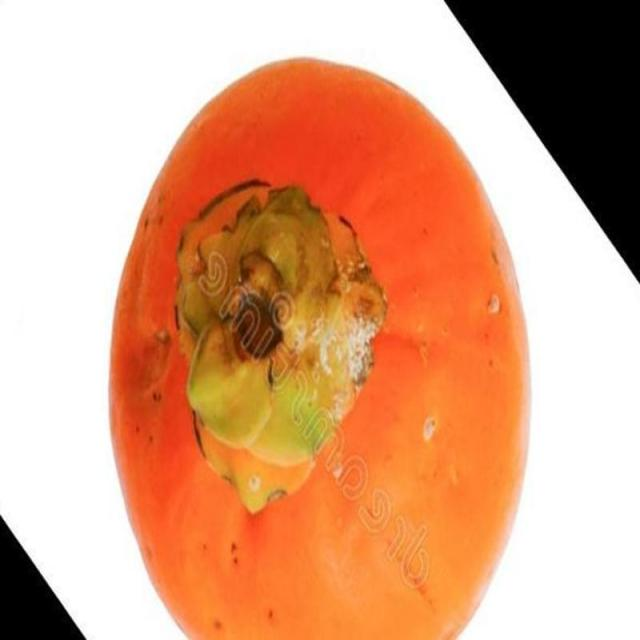good: (110, 59, 532, 639)
